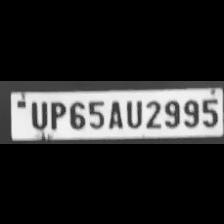2: (142, 97, 162, 129)
5: (198, 95, 220, 127), (85, 97, 105, 129)
6: (65, 98, 84, 130)
9: (160, 96, 180, 128), (180, 95, 200, 127)
A: (106, 97, 122, 129)
P: (46, 98, 66, 130)
U: (26, 97, 48, 128), (124, 96, 142, 128)
